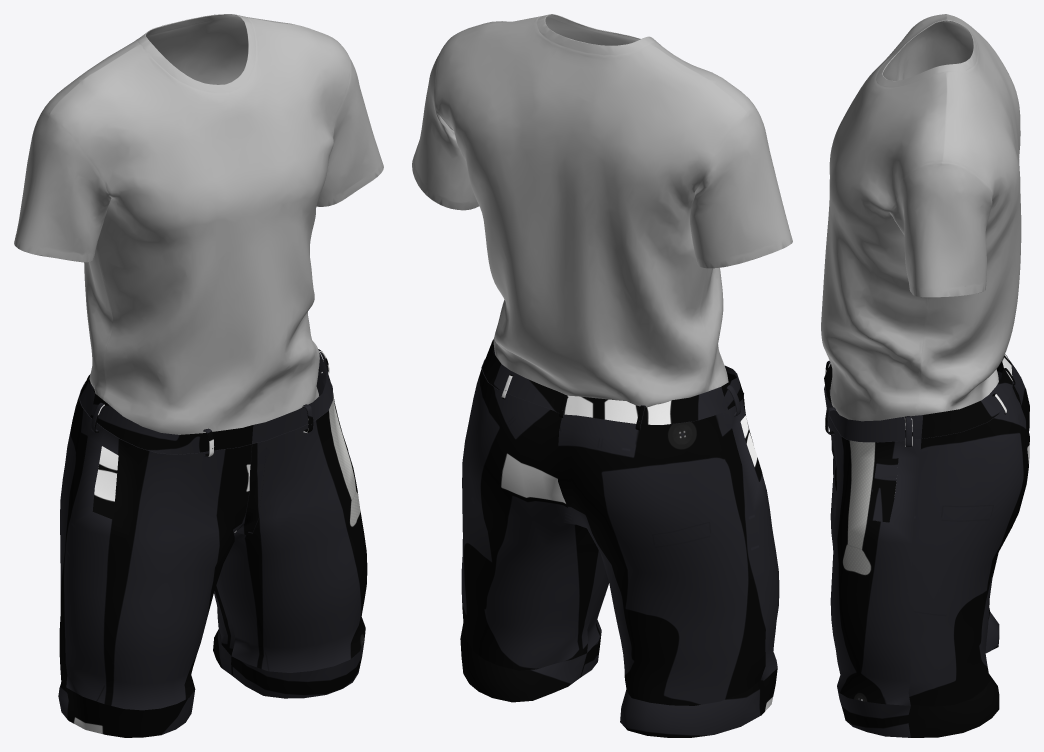
Rendered from tshirt_material_shorts.glb.
3 views of the same model, side by side, from view 1: azimuth 30°, elevation 25°; view 2: azimuth 150°, elevation 25°; view 3: azimuth 270°, elevation 25° (orthographic). The views are drawn at different scales.
Visible parts, largest first — view 1: all; view 2: all; view 3: all.
Part boxes in pixels (x1,y1,x2,y2): all: (14, 14, 383, 737); all: (412, 14, 792, 737); all: (821, 14, 1029, 737).
Size of the model in its own units: 0.2667 by 0.4563 by 0.136.
Materials: 2 (1 with a texture image).
